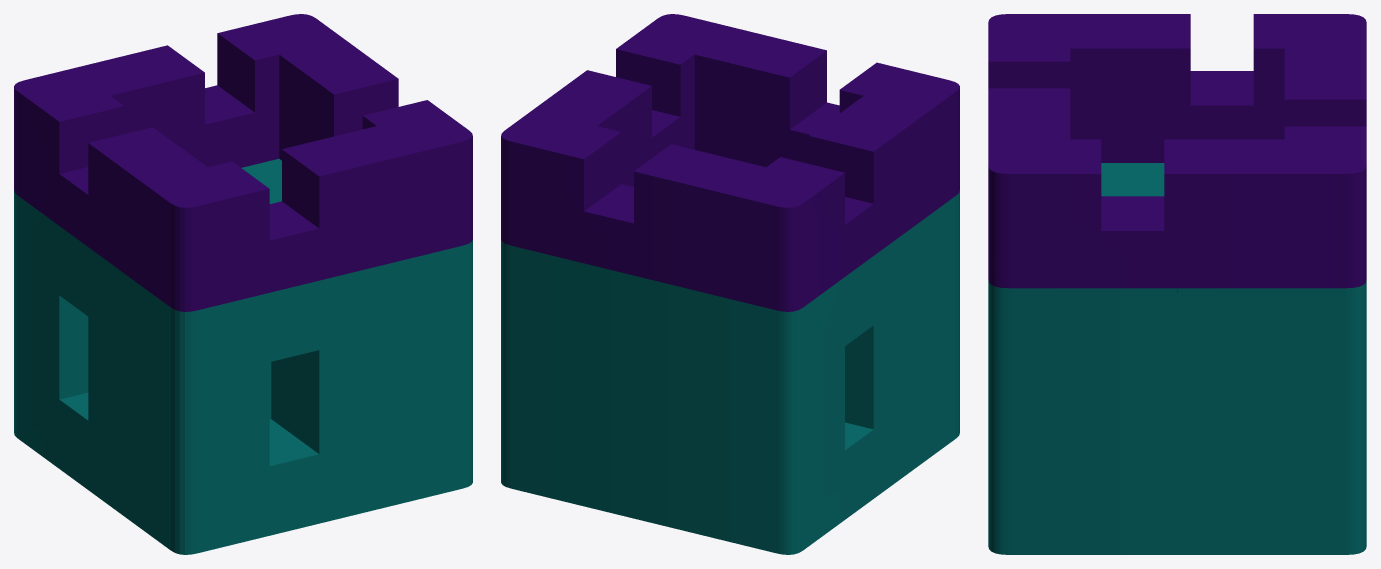
File: Roof_00_X_L.fbx
3 views of the same model, side by side, from view 1: azimuth 30°, elevation 25°; view 2: azimuth 150°, elevation 25°; view 3: azimuth 270°, elevation 25° (orthographic). The views are drawn at different scales.
Visible parts, largest first — view 1: 3, 1, 4, 2; view 2: 4, 2, 3, 1; view 3: 2, 1, 3, 4.
Boxes of the visible parts, box(x1,y1,x2,y2) form: 3: box(94, 131, 329, 554); 1: box(293, 74, 472, 520); 4: box(14, 48, 194, 493); 2: box(157, 14, 392, 203); 4: box(644, 131, 879, 554); 2: box(501, 74, 680, 520); 3: box(779, 48, 959, 493); 1: box(581, 14, 816, 166); 2: box(1177, 94, 1366, 554); 1: box(988, 94, 1177, 554); 3: box(988, 14, 1177, 196); 4: box(1177, 14, 1366, 139).
Bounding box in the file's own units: 180 × 200 × 180.
